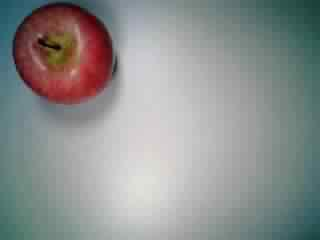apple: (10, 3, 116, 107)
